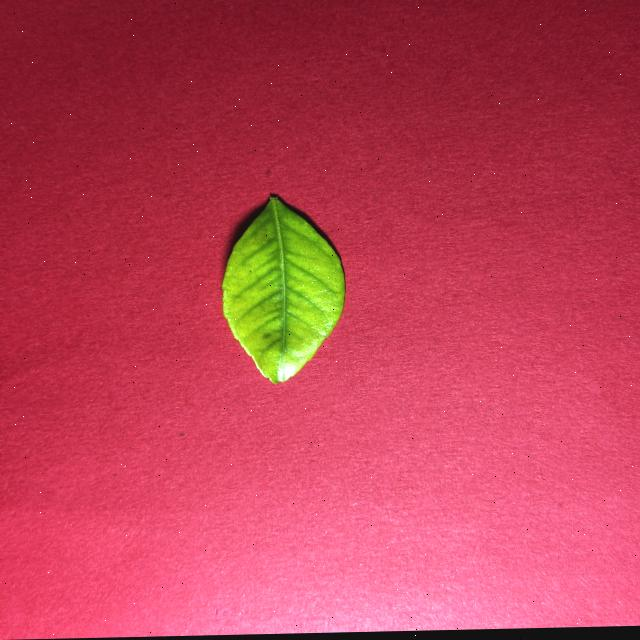greening: (223, 196, 345, 383)
